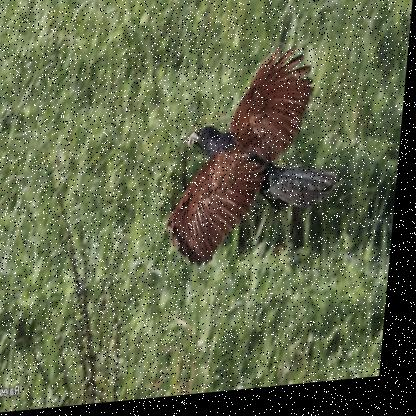Burung: (168, 46, 352, 273)
